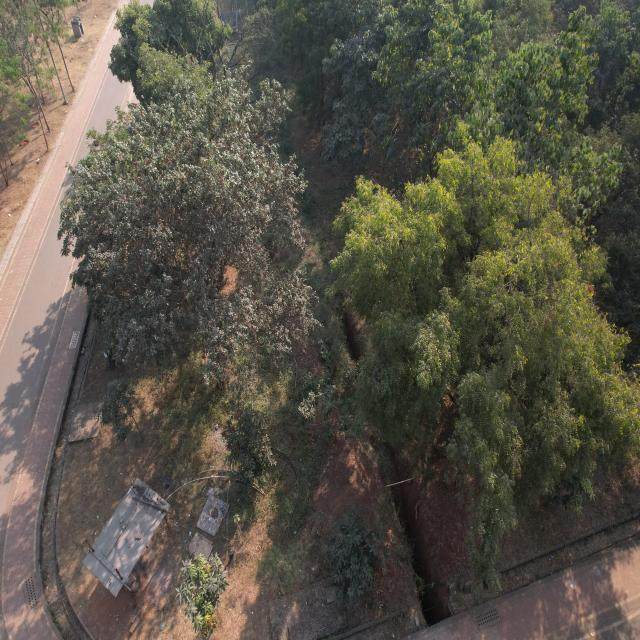Neem-Tree: (349, 151, 622, 541)
